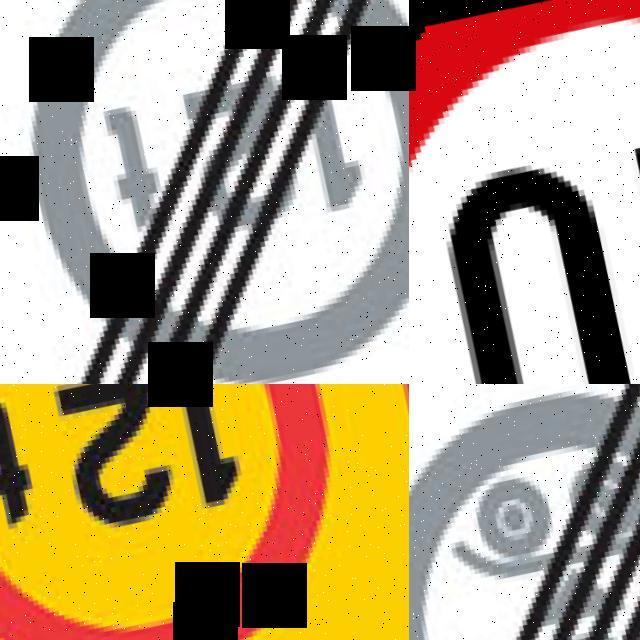111: (0, 0, 409, 384), (409, 384, 640, 640)
82: (0, 384, 409, 640)
speed limit-110: (409, 0, 640, 384)
